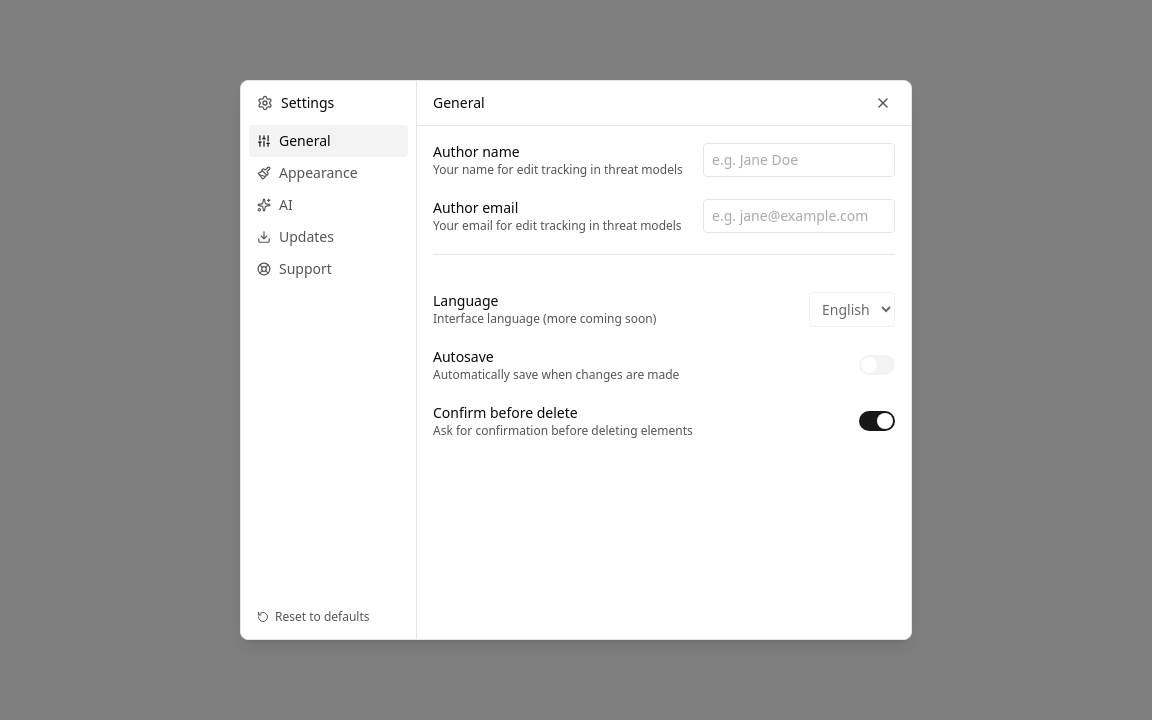
SettingsDialog › switches to Appearance tab on click
Click the button "Appearance". click: (328,173)
box: [249,157,408,189]
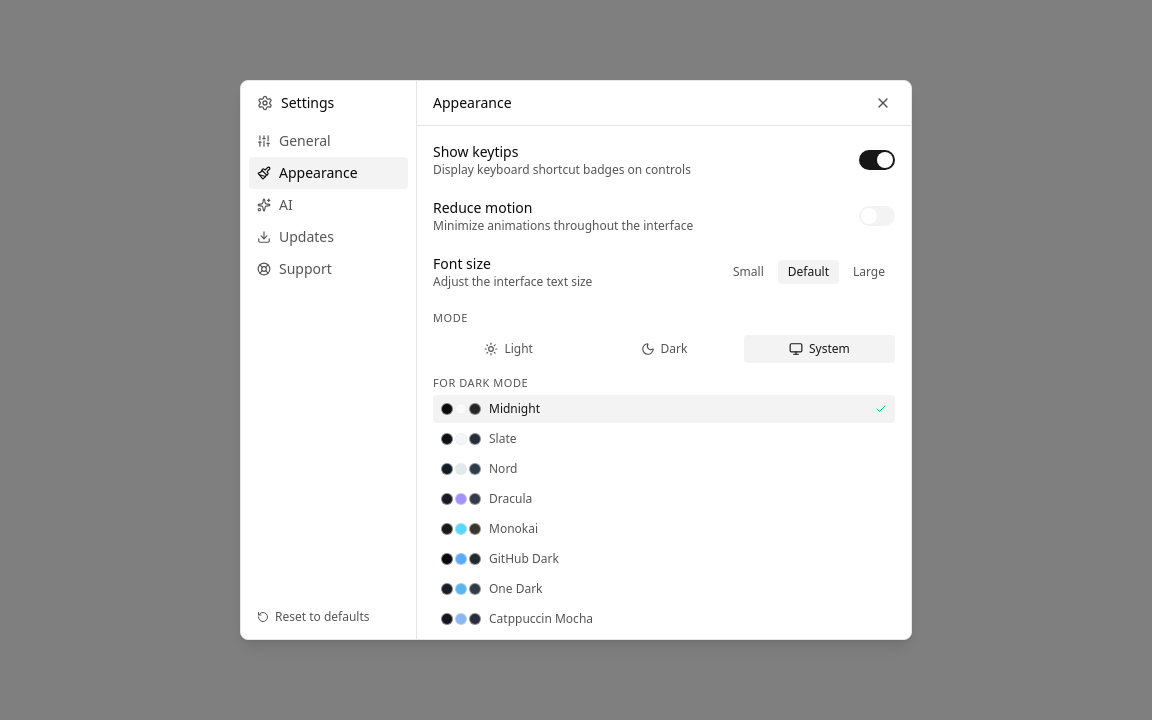
Check: the text "Show keytips" is shown, box [433,142,518,161]
Check: the text "Reduce motion" is shown, box [433,198,532,217]
